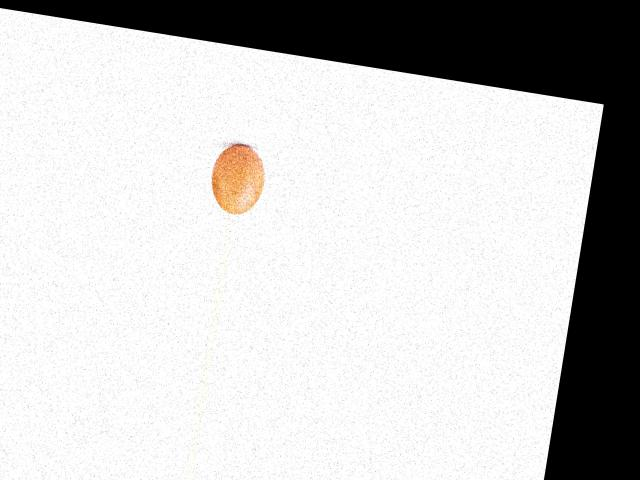egg: (206, 140, 268, 217)
